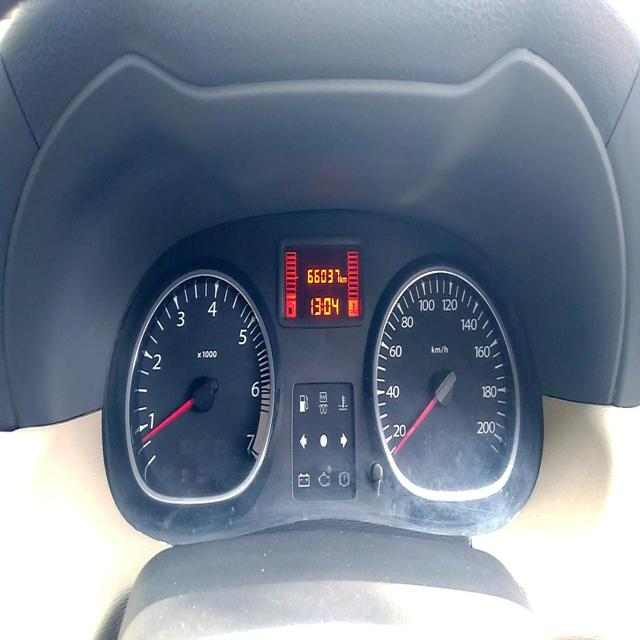odometer: (305, 265, 340, 286)
